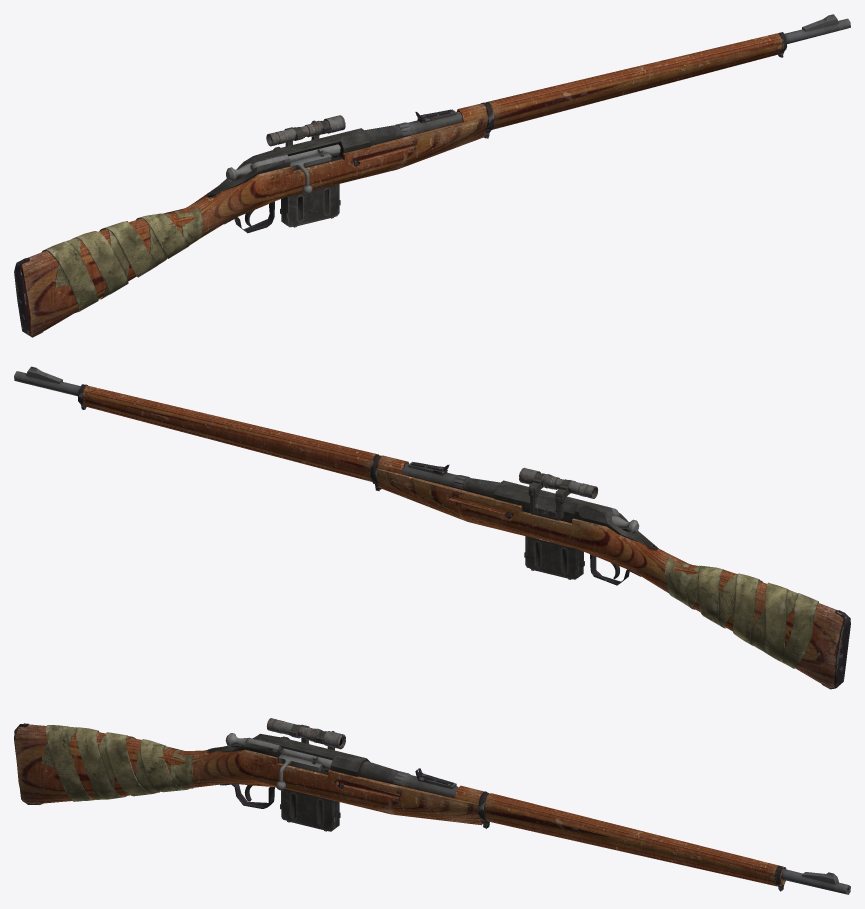
Rendered from rifle_hi.glb.
The picture shows the model from 3 angles, top to bottom: view 1: azimuth 30°, elevation 25°; view 2: azimuth 150°, elevation 25°; view 3: azimuth 330°, elevation 25°; orthographic projection.
Parts seen in each view (by area): view 1: bolt_action_rifle_7_62, bolt_action_rifle_7_62_wrap, bolt_action_rifle_7_62_scope, bolt_action_rifle_7_62_bolt_a; view 2: bolt_action_rifle_7_62, bolt_action_rifle_7_62_wrap, bolt_action_rifle_7_62_scope; view 3: bolt_action_rifle_7_62, bolt_action_rifle_7_62_wrap, bolt_action_rifle_7_62_scope, bolt_action_rifle_7_62_bolt_a, bolt_action_rifle_7_62_bolt_b.
Part boxes in pixels (x1,y1,x2,y2): bolt_action_rifle_7_62: (14, 14, 850, 337); bolt_action_rifle_7_62_wrap: (42, 203, 202, 312); bolt_action_rifle_7_62_scope: (266, 115, 345, 146); bolt_action_rifle_7_62_bolt_a: (288, 144, 340, 194); bolt_action_rifle_7_62: (14, 366, 850, 689); bolt_action_rifle_7_62_wrap: (665, 557, 818, 668); bolt_action_rifle_7_62_scope: (519, 467, 598, 520); bolt_action_rifle_7_62: (14, 723, 850, 894); bolt_action_rifle_7_62_wrap: (42, 725, 193, 801); bolt_action_rifle_7_62_scope: (266, 718, 345, 750); bolt_action_rifle_7_62_bolt_a: (276, 748, 332, 790); bolt_action_rifle_7_62_bolt_b: (225, 733, 324, 770).
Size of the model in its own units: 1.23 by 0.2045 by 0.0665.
3 materials, 3 textured.
